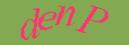P: (75, 5, 108, 33)
d: (20, 8, 39, 39)
e: (37, 11, 57, 30)
n: (54, 5, 75, 25)
